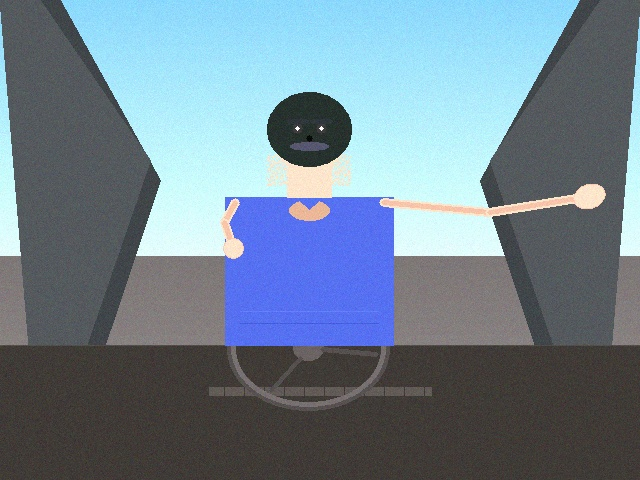hands_off_wheel: (571, 176, 607, 215)
